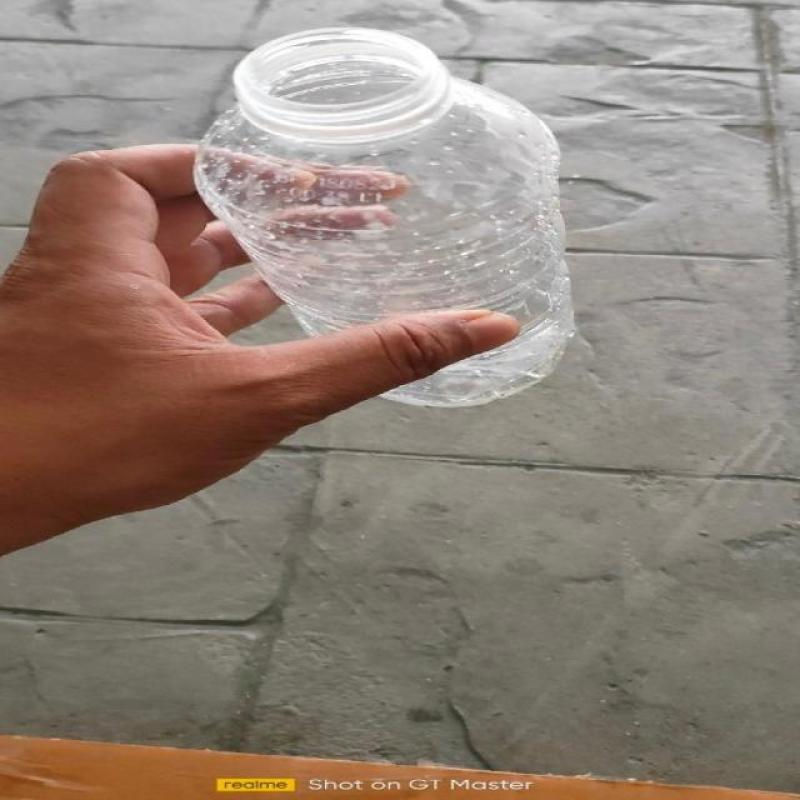botella: (193, 27, 575, 406)
